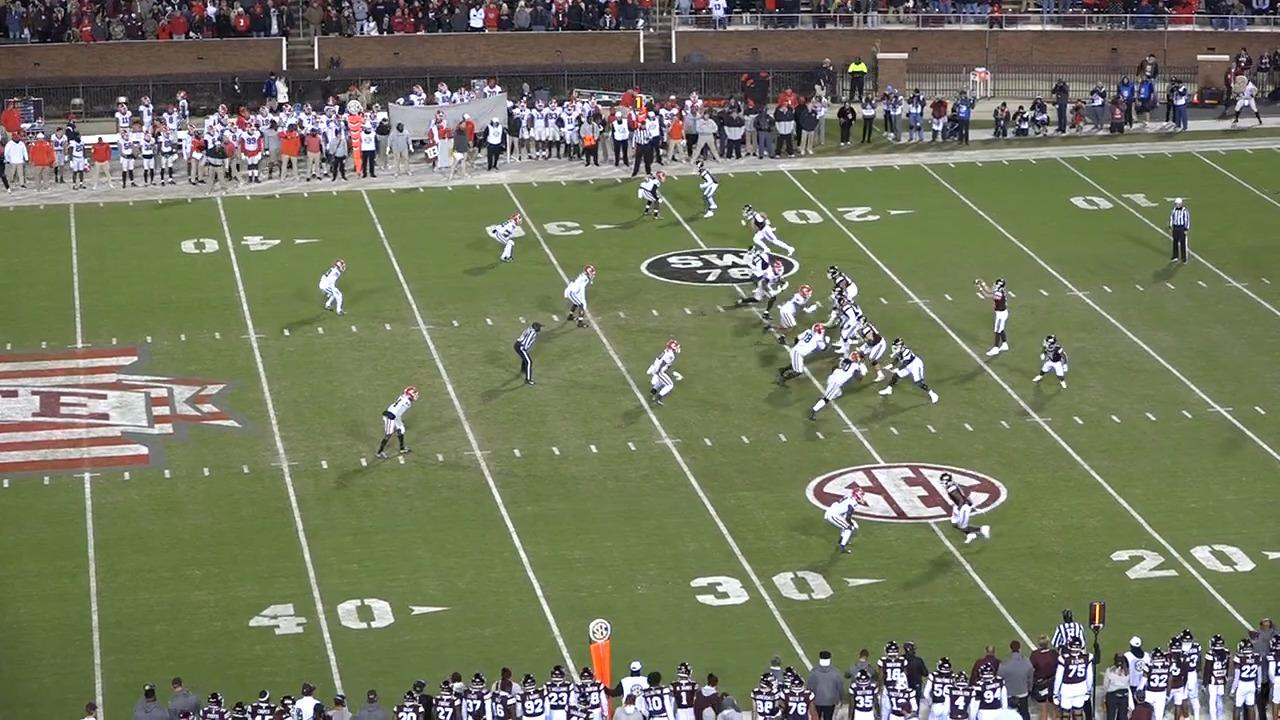defense: (803, 354, 861, 423), (779, 324, 836, 389), (370, 382, 415, 460), (770, 283, 822, 343), (733, 263, 785, 320), (823, 488, 862, 557), (645, 337, 681, 407), (568, 267, 601, 334), (318, 258, 349, 318), (491, 212, 521, 264), (640, 170, 668, 222)
oline: (878, 338, 936, 405), (856, 316, 896, 383), (827, 302, 862, 358), (824, 266, 856, 307), (831, 296, 866, 325)
qb: (978, 275, 1008, 361)
ref: (508, 321, 539, 390), (1165, 195, 1194, 264), (1048, 606, 1083, 659), (629, 122, 659, 179)
skill: (937, 471, 989, 548), (741, 207, 796, 262), (1029, 335, 1068, 394), (698, 163, 726, 222), (746, 246, 777, 286)
